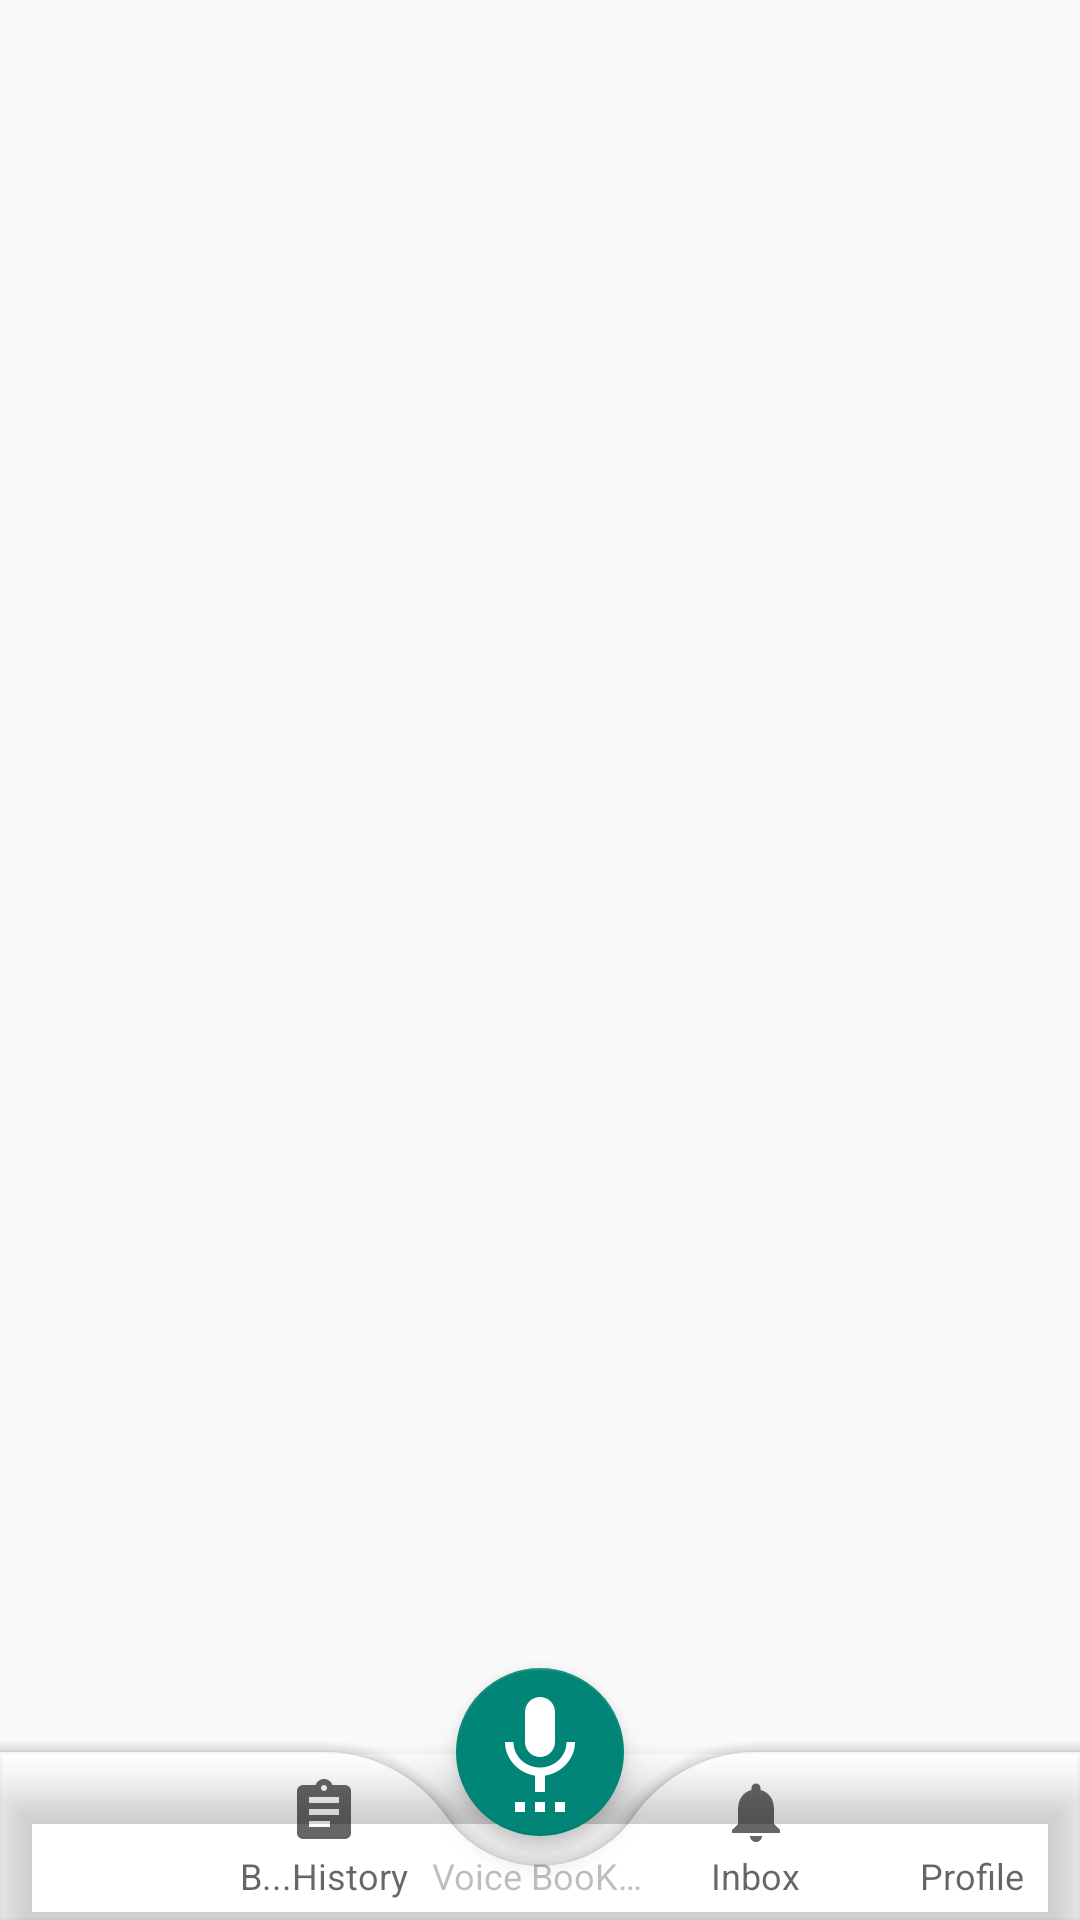

Named icons in this screenshot (1080x1920) and their bounding boxes, (left=x1, top=y1, right=x2, bottom=y2):
settings voice: (left=456, top=1668, right=624, bottom=1836)
